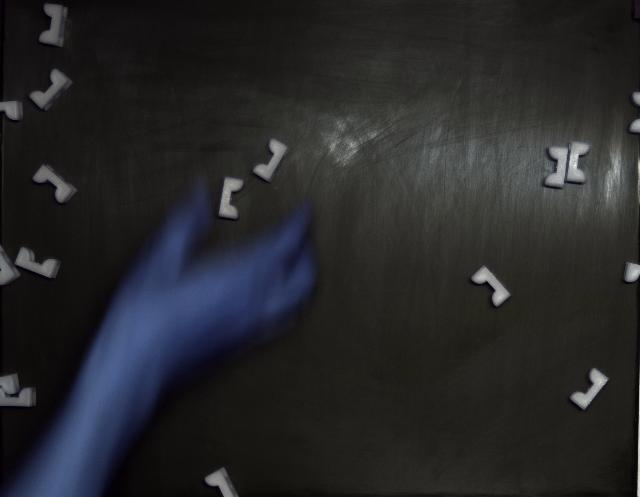third_side: (32, 165, 78, 204), (30, 69, 72, 110), (471, 266, 510, 308), (570, 369, 609, 410), (254, 139, 289, 182), (15, 248, 61, 279), (39, 4, 68, 46), (544, 146, 569, 189), (219, 178, 244, 220), (566, 141, 590, 184)
